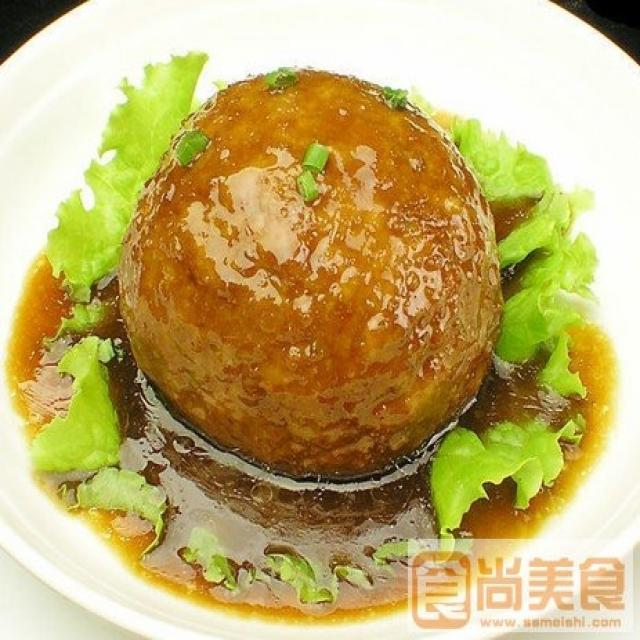meatball: (111, 62, 503, 488)
